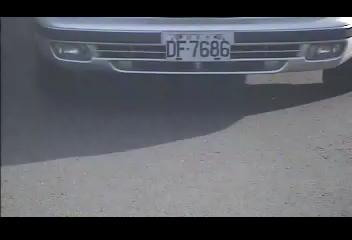plate: (162, 29, 232, 64)
